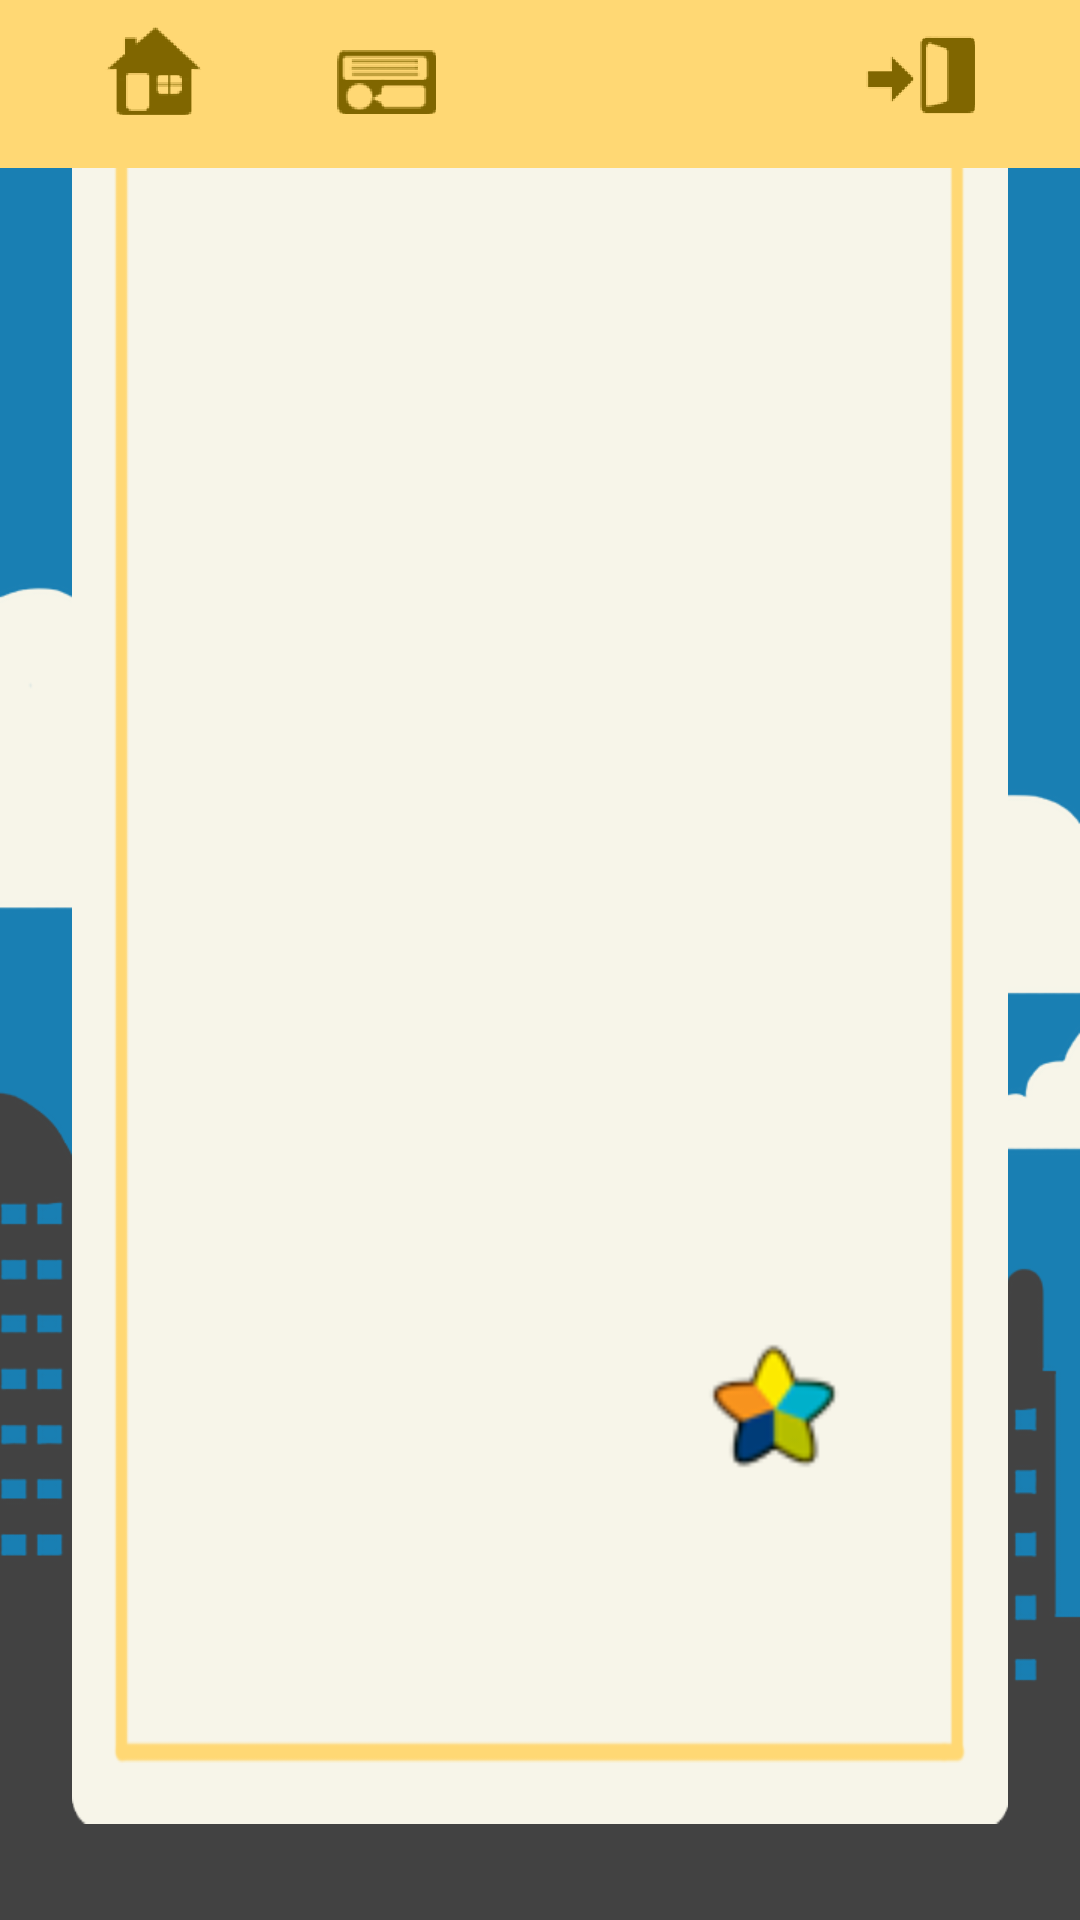

Locate icon controls on the screen. Image size 1080×1920, boxes as {"left": x1, "top": y1, "right": x2, "bottom": y2}.
feedbackicon: {"left": 337, "top": 50, "right": 436, "bottom": 114}
homeicon: {"left": 108, "top": 27, "right": 200, "bottom": 115}
